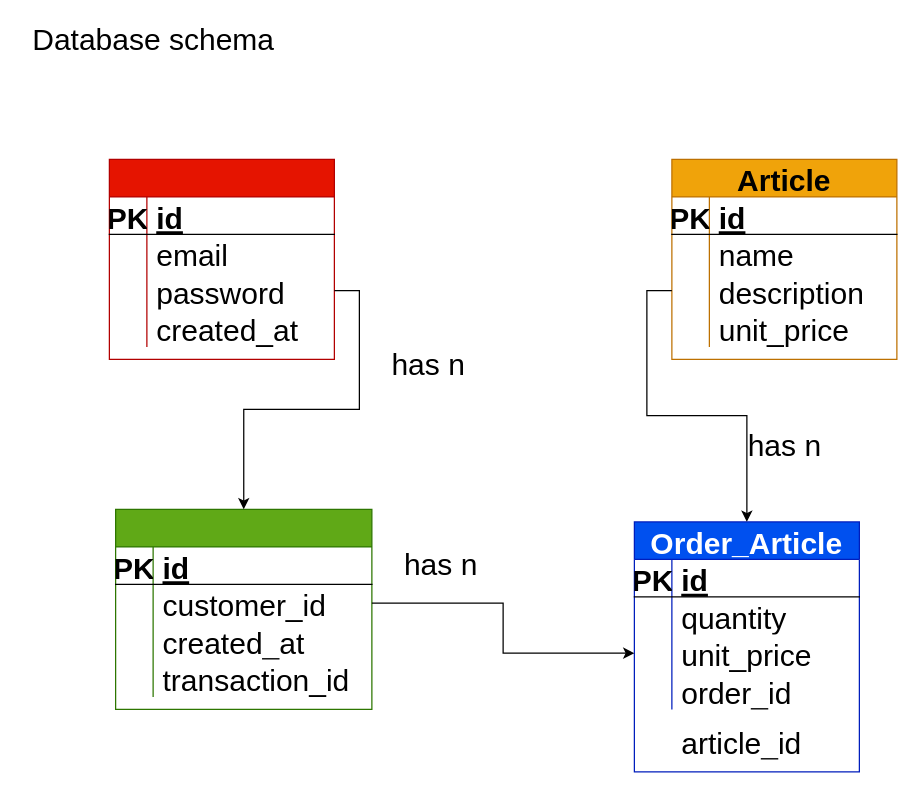
This 919x794 diagram has some shape labels left out. Each missing label, with the box of its shape:
Customer: (108, 158, 334, 359)
Order: (114, 508, 372, 709)
